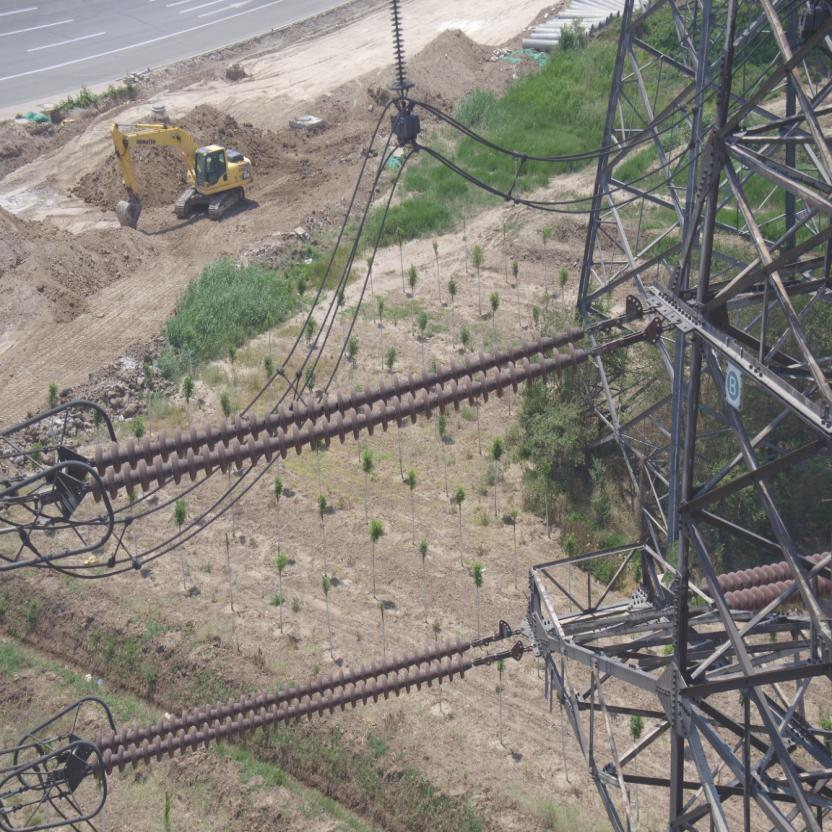insulator: (77, 318, 611, 504), (76, 633, 487, 781), (694, 547, 831, 615)
